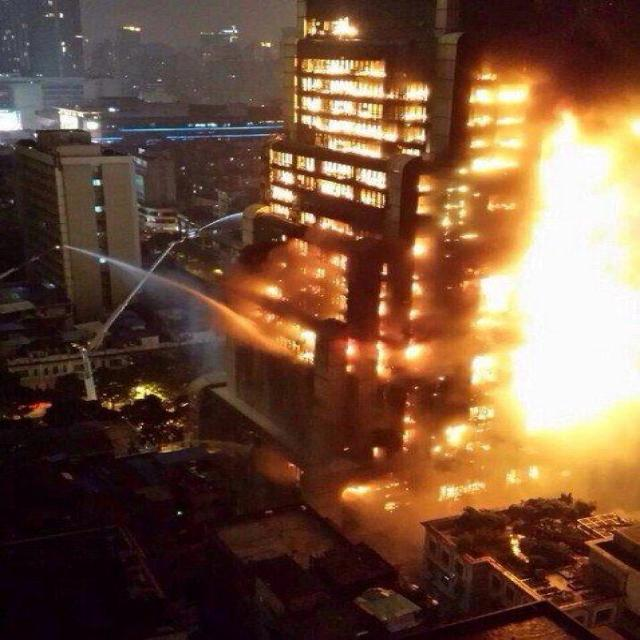fire: (231, 6, 628, 518)
